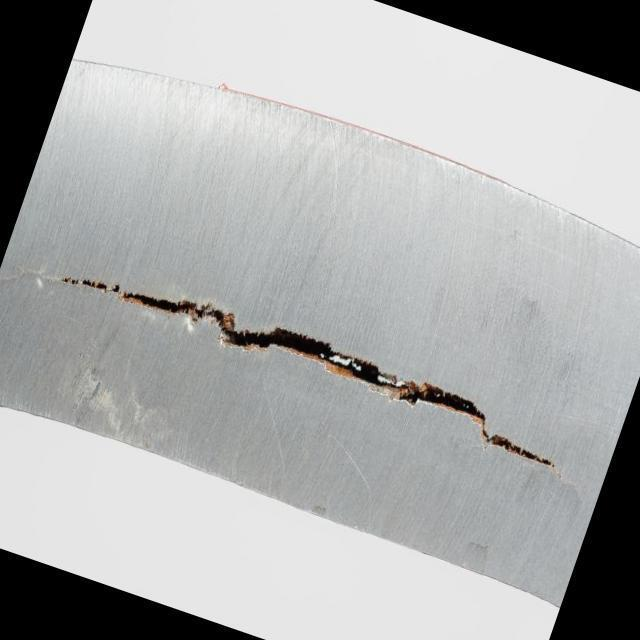defect: (56, 275, 563, 476)
